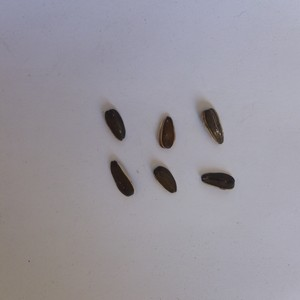girasol: (108, 159, 135, 199), (202, 105, 226, 145), (103, 107, 127, 141), (152, 165, 178, 194), (200, 171, 236, 191), (157, 114, 176, 151)
